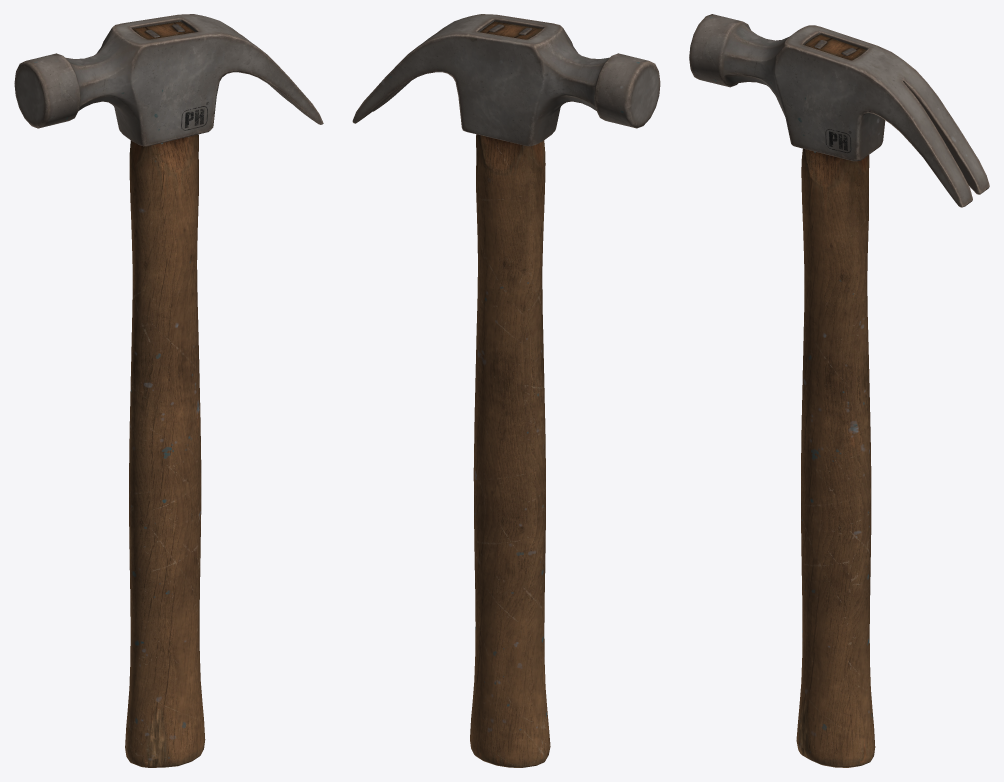
Rendered from wooden_hammer.fbx.
3 renders of one model, left to right at view 1: azimuth 30°, elevation 25°; view 2: azimuth 150°, elevation 25°; view 3: azimuth 330°, elevation 25°, orthographic. The views are drawn at different scales.
Visible parts, largest first — view 1: body, head; view 2: body, head; view 3: body, head.
Part boxes in pixels (<box>): body: <box>125,21,205,767</box>; head: <box>14,14,323,146</box>; body: <box>470,21,550,767</box>; head: <box>352,14,660,146</box>; body: <box>796,34,875,767</box>; head: <box>689,14,989,207</box>.
Bounding box in the file's own units: 11.18 × 27.92 × 2.34.
